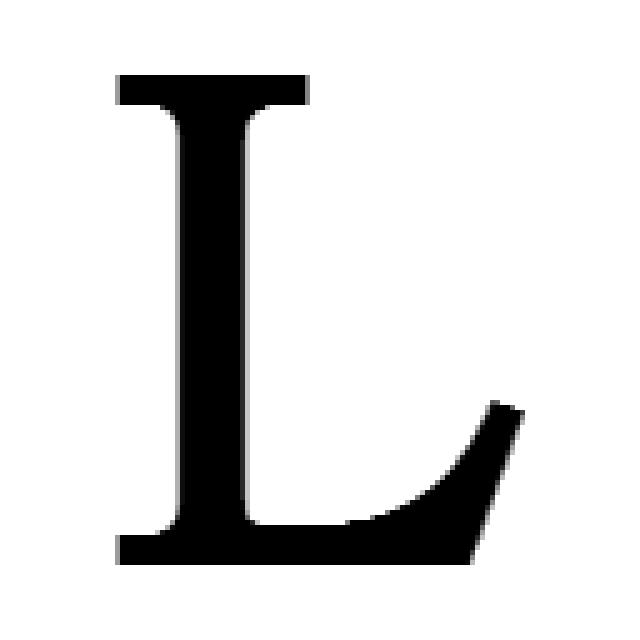L: (108, 68, 524, 569)
